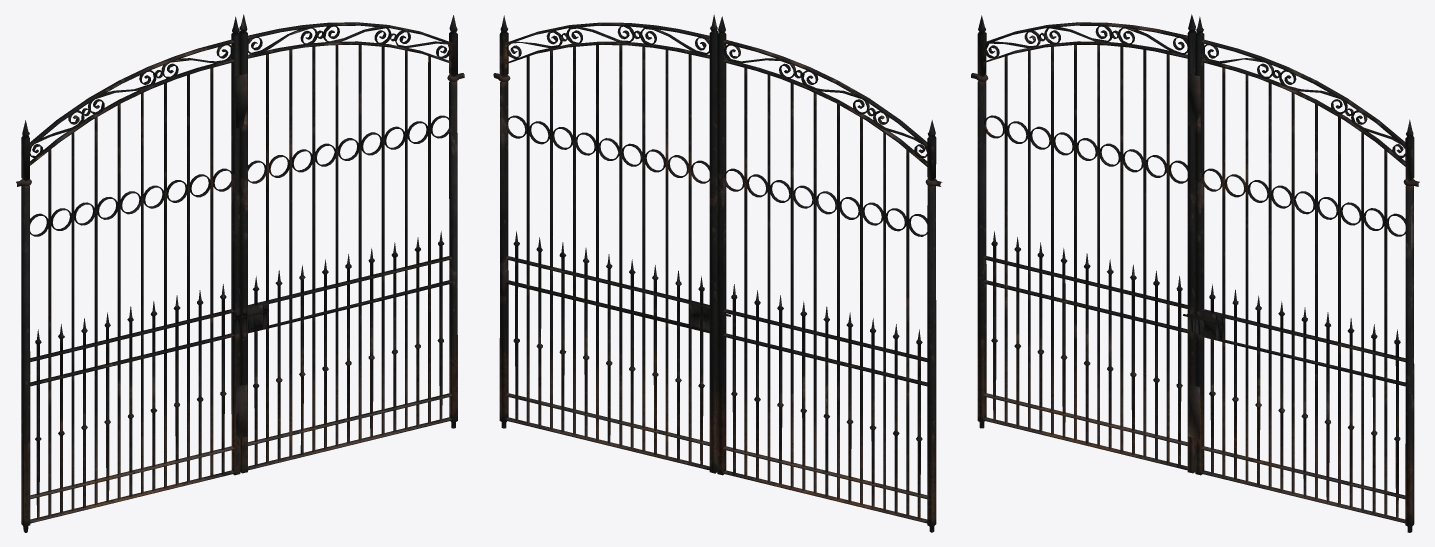
The model's file is large_iron_gate.glb.
3 views of the same model, side by side, from view 1: azimuth 30°, elevation 25°; view 2: azimuth 150°, elevation 25°; view 3: azimuth 330°, elevation 25° (orthographic).
Parts seen in each view (by area): view 1: large_iron_gate_right_door; view 2: large_iron_gate_right_door; view 3: large_iron_gate_right_door.
Part boxes in pixels (x1,y1,x2,y2): large_iron_gate_right_door: [16, 14, 464, 532]; large_iron_gate_right_door: [493, 14, 942, 532]; large_iron_gate_right_door: [971, 14, 1419, 532].
Size of the model in its own units: 2.95 by 2.93 by 0.0962.
Materials: 1 (1 with a texture image).
